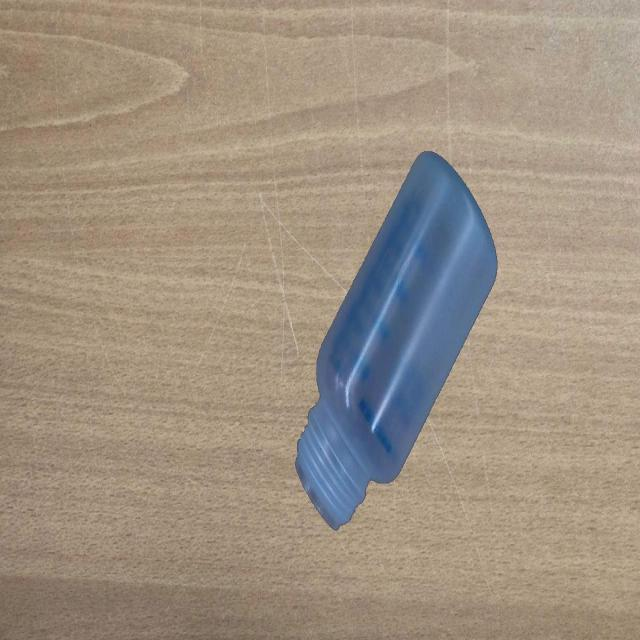bottle: (295, 145, 499, 528)
